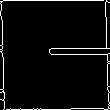L_W: (5, 39, 105, 71)
